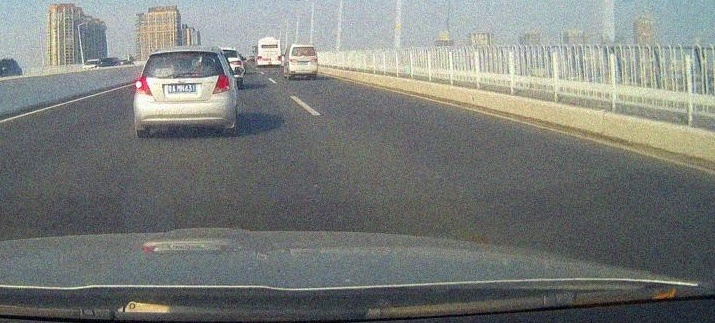L_light: (135, 76, 151, 95), (289, 59, 295, 62), (257, 56, 262, 59)
R_light: (212, 74, 230, 94), (311, 58, 317, 61), (278, 56, 281, 59)
T_light: (176, 53, 189, 55), (301, 47, 306, 48)
day-no: (133, 48, 232, 137), (288, 45, 318, 80), (257, 40, 281, 68)
